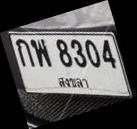character: (70, 38, 87, 68), (55, 38, 72, 66), (84, 38, 100, 67), (101, 38, 116, 68)
